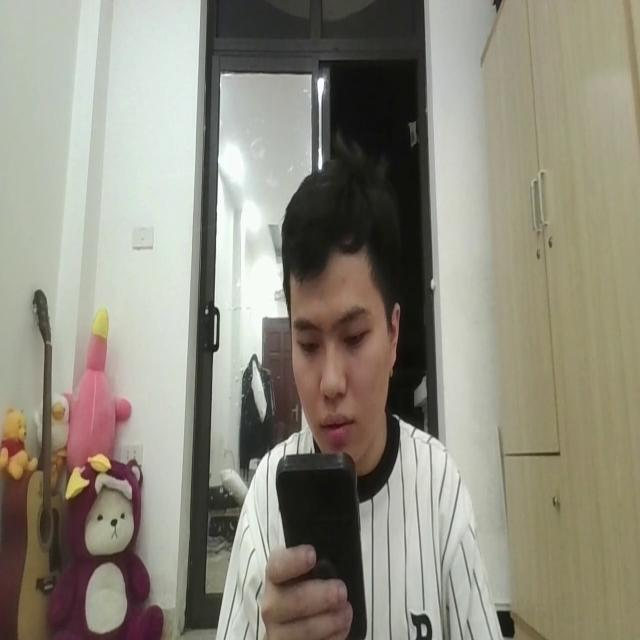phone: (277, 438, 368, 635)
student: (213, 152, 500, 640)
